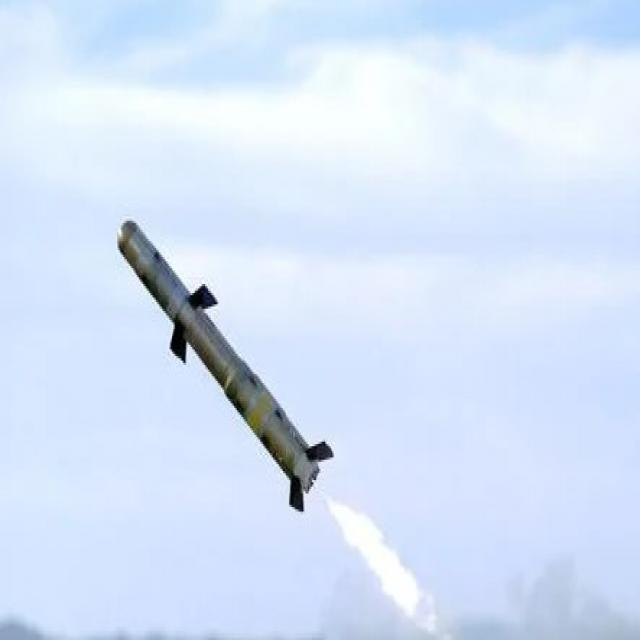missile: (102, 218, 332, 516)
